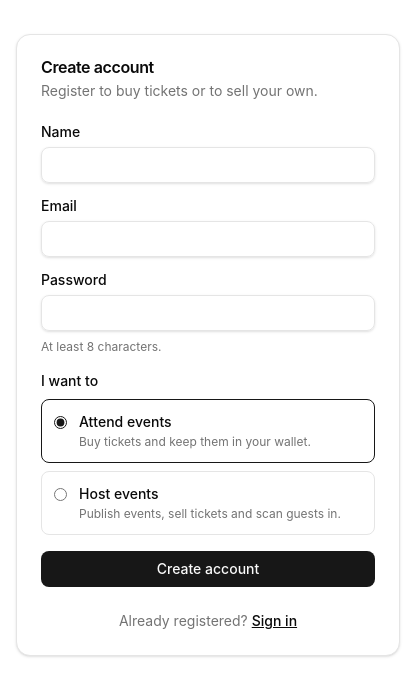
Test: RegisterPage › reports a password that is too short
Type "Dora Klein" into the field with id "name" at (208, 165), box [41,147,375,183]
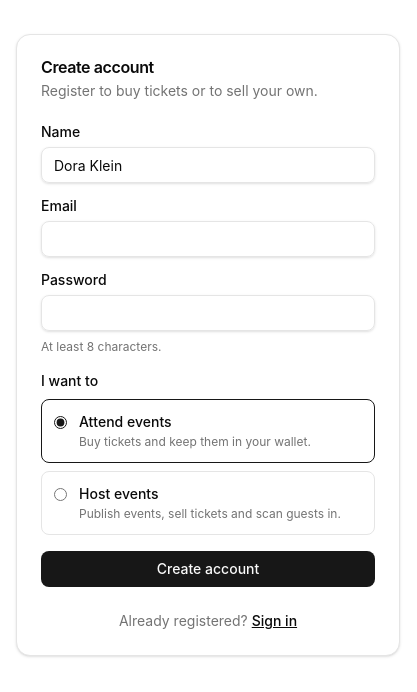
Type "dora@example.com" into the field with id "email" at (208, 239), box [41,221,375,257]
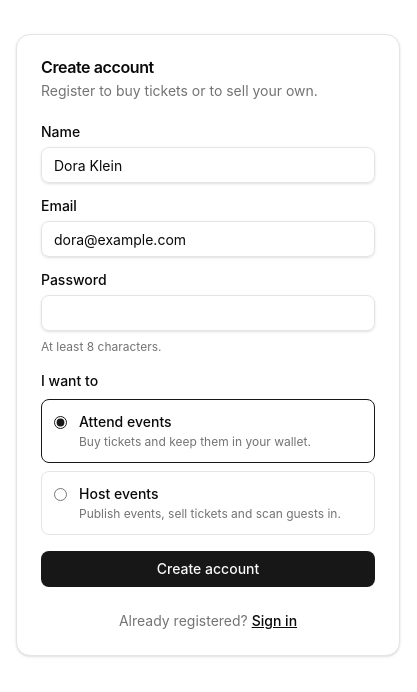
Type "user12345" into the password field labelled "Password" at (208, 313), box [41,295,375,331]
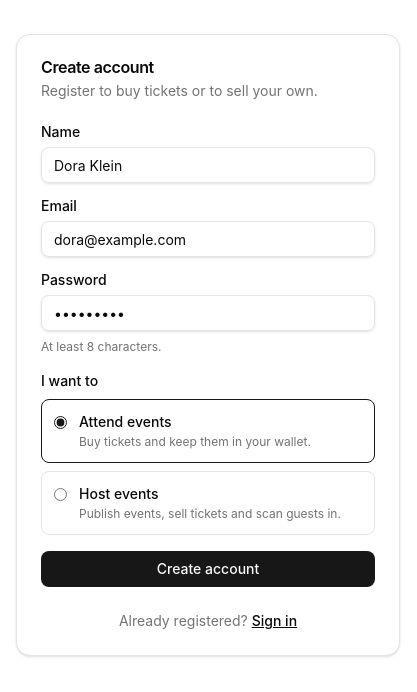
Submit the form, box [41,125,375,587]
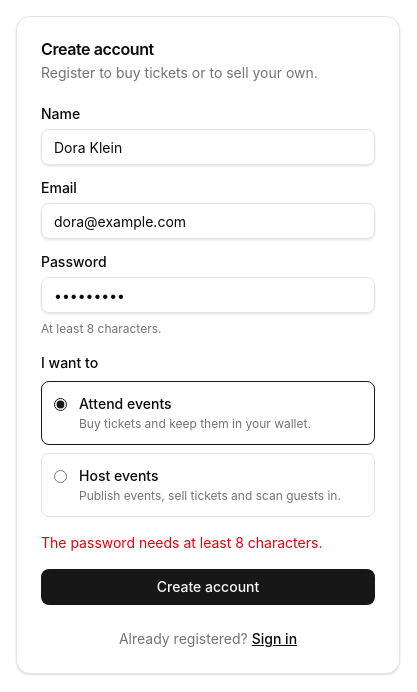
Check: the text "The password needs at least 8 characters." is shown, box [41,534,322,551]
